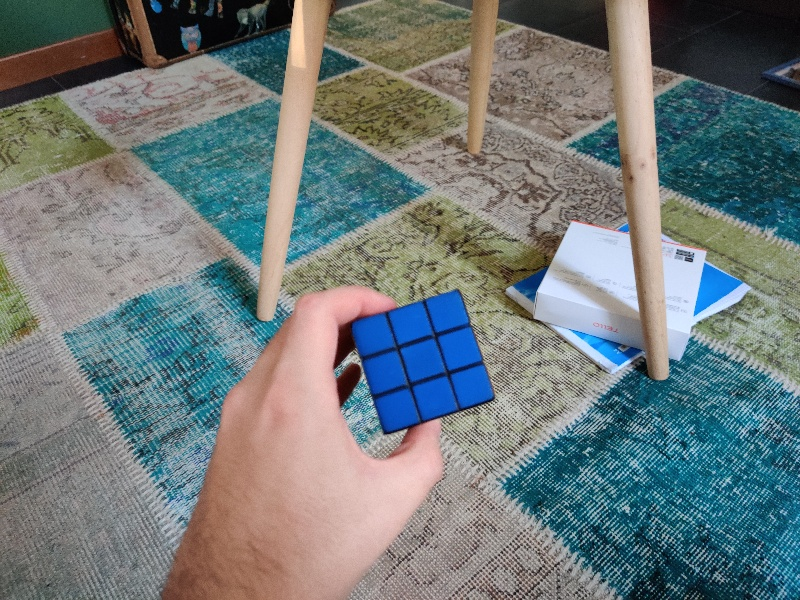rubik: (353, 290, 496, 435)
